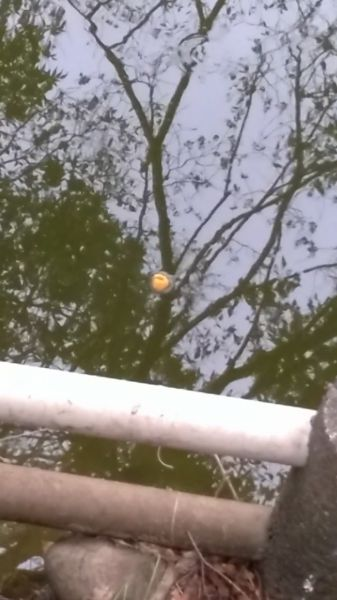eggs: (147, 270, 174, 294)
